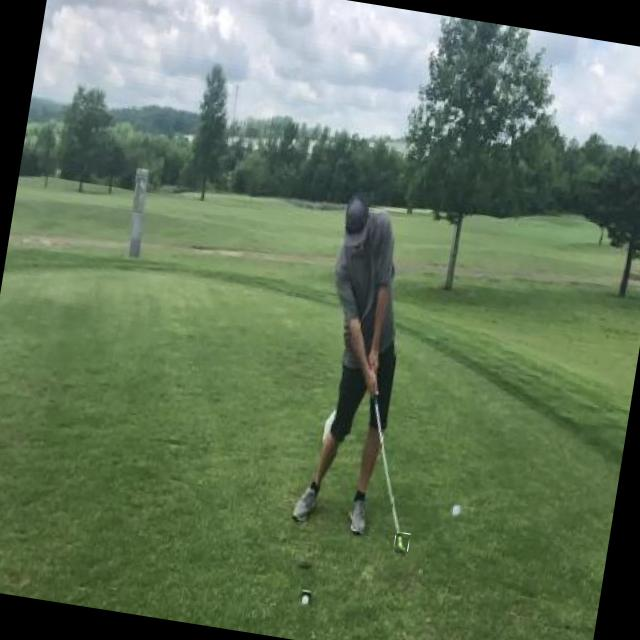club head: (394, 532, 411, 554)
